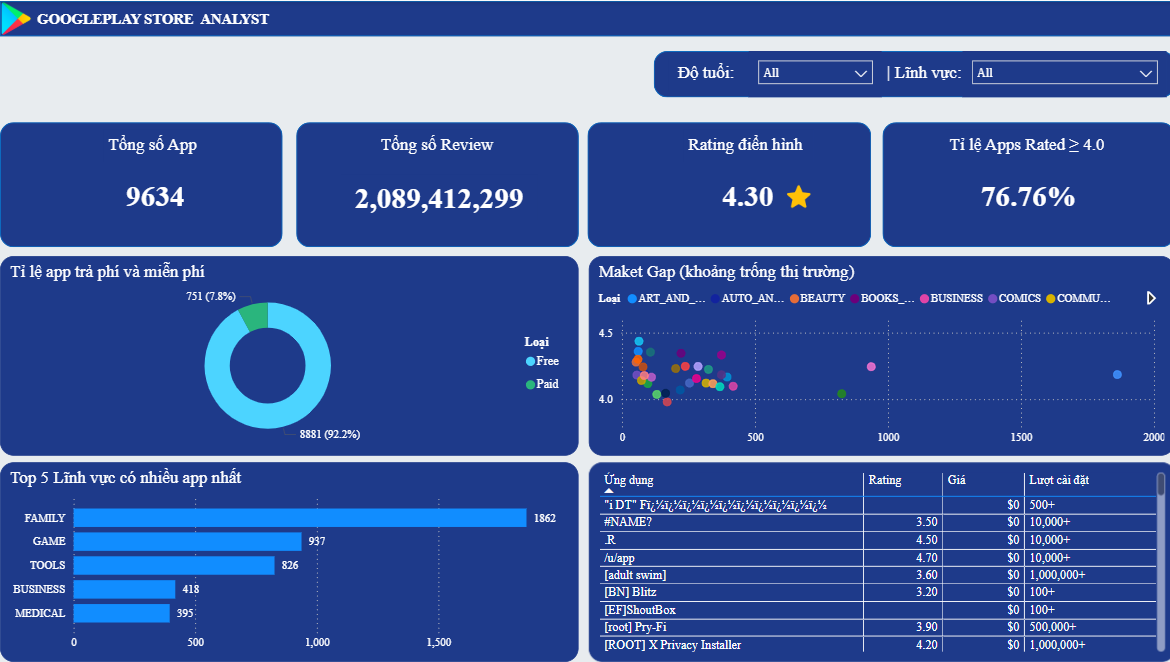

The dashboard page shown, as its layout file describes it:
{"tool":"powerbi","page":{"name":"Tổng quan","canvas":[1280,720],"ordinal":0},"visuals":[{"type":"shape","box":[0,0,1280.3,38.4],"z":0},{"type":"shape","box":[711.7,54,568.3,50.6],"z":1000},{"type":"image","box":[0,0,35.4,38.1],"z":2000},{"type":"shape","box":[0,132.1,307.8,136.2],"z":3000},{"type":"shape","box":[961.6,132.1,318.7,136.2],"z":4000},{"type":"shape","box":[322.8,132.1,307.8,136.2],"z":5000},{"type":"shape","box":[640.1,132.1,309.2,136.2],"z":6000},{"type":"card","fields":{"Values":["CountNonNull(googleplaystore.App)"]},"box":[114.4,186.6,110.3,49],"z":7000},{"type":"textbox","box":[35.7,5,266.2,28.8],"z":8000},{"type":"textbox","box":[113,140.3,110.3,35.4],"z":9000},{"type":"textbox","box":[410,140.3,134.8,35.4],"z":10000},{"type":"card","fields":{"Values":["Sum(googleplaystore.Reviews)"]},"box":[371.8,189.3,213.8,49],"z":11000},{"type":"textbox","box":[745,140.3,141.6,35.4],"z":12000},{"type":"card","fields":{"Values":["googleplaystore.Median Rating"]},"box":[773.6,186.6,83.1,49],"z":13000},{"type":"image","box":[856.7,200.2,27.2,25.9],"z":14000},{"type":"textbox","box":[1029.7,140.3,182.5,35.4],"z":15000},{"type":"card","fields":{"Values":["googleplaystore.Tỉ lệ App Rated"]},"box":[1062.4,186.6,117.1,49],"z":16000},{"type":"donutChart","title":"Tỉ lệ app trả phí và miễn phí","fields":{"Category":["googleplaystore.Type"],"Y":["CountNonNull(googleplaystore.Type)"]},"box":[0,278.3,630,217.5],"z":17000},{"type":"clusteredBarChart","title":"Top 5 Lĩnh vực có nhiều app nhất","fields":{"Category":["googleplaystore.Category"],"Y":["CountNonNull(googleplaystore.App)"]},"box":[0,502.6,630.7,217.5],"z":18000},{"type":"scatterChart","title":"Maket Gap (khoảng trống thị trường)","fields":{"Y":["googleplaystore.Avg Rating"],"Series":["googleplaystore.Category"],"X":["googleplaystore.App"]},"box":[641.5,277.8,638.8,217.9],"z":19000},{"type":"tableEx","title":"Tỉ lệ app trả phí và miễn phí","fields":{"Values":["googleplaystore.App","googleplaystore.Rating","googleplaystore.Price","googleplaystore.Installs"]},"box":[640.8,502.6,639.2,217.5],"z":20000},{"type":"slicer","fields":{"Values":["googleplaystore.Category"]},"box":[1049,54,222.6,50.6],"z":21000},{"type":"textbox","box":[961.3,62.4,97.8,35.4],"z":22000},{"type":"slicer","fields":{"Values":["googleplaystore.Content_Rating"]},"box":[816.2,54,145,50.6],"z":23000},{"type":"textbox","box":[728.5,62.4,87.7,35.4],"z":24000}]}

Visuals, with their boxes in screenshot pixels (x1, y1, x2, y2), scaled from the page's 1280x720 canvas onto the 1170x662 screenshot:
shape: region(0, 0, 1169, 35)
shape: region(651, 50, 1169, 96)
image: region(0, 0, 32, 35)
shape: region(0, 121, 281, 247)
shape: region(879, 121, 1169, 247)
shape: region(295, 121, 576, 247)
shape: region(585, 121, 868, 247)
card - CountNonNull(googleplaystore.App): region(105, 172, 205, 217)
textbox: region(33, 5, 276, 31)
textbox: region(103, 129, 204, 162)
textbox: region(375, 129, 498, 162)
card - Sum(googleplaystore.Reviews): region(340, 174, 535, 219)
textbox: region(681, 129, 810, 162)
card - googleplaystore.Median Rating: region(707, 172, 783, 217)
image: region(783, 184, 808, 208)
textbox: region(941, 129, 1108, 162)
card - googleplaystore.Tỉ lệ App Rated: region(971, 172, 1078, 217)
"Tỉ lệ app trả phí và miễn phí" donutChart: region(0, 256, 576, 456)
"Top 5 Lĩnh vực có nhiều app nhất" clusteredBarChart: region(0, 462, 576, 661)
"Maket Gap (khoảng trống thị trường)" scatterChart: region(586, 255, 1169, 456)
"Tỉ lệ app trả phí và miễn phí" tableEx: region(586, 462, 1169, 661)
slicer - googleplaystore.Category: region(959, 50, 1162, 96)
textbox: region(879, 57, 968, 90)
slicer - googleplaystore.Content_Rating: region(746, 50, 879, 96)
textbox: region(666, 57, 746, 90)
